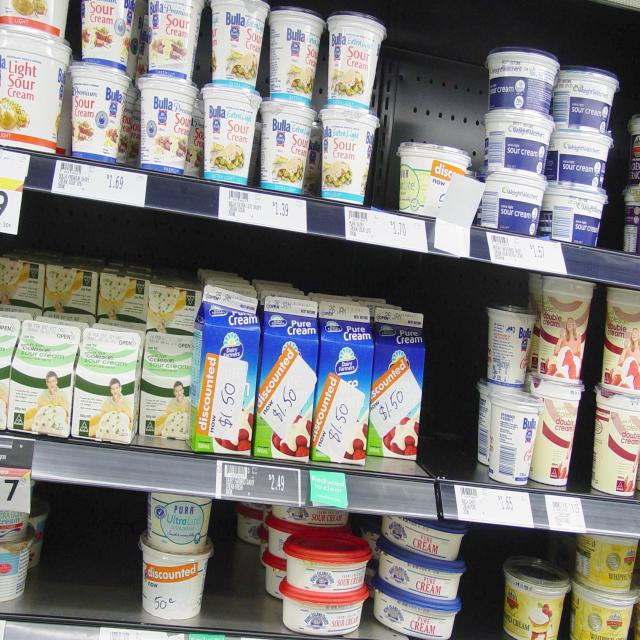empty_space: (51, 495, 131, 599), (433, 297, 472, 478), (215, 525, 259, 619), (466, 539, 506, 633)
